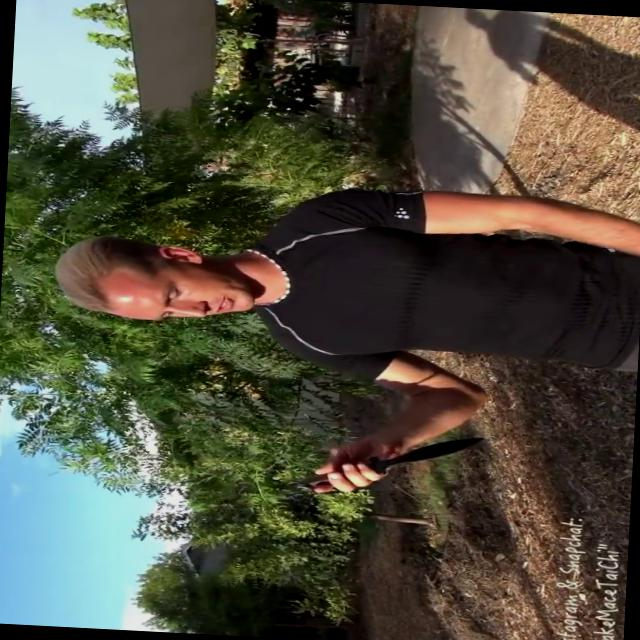knife: (274, 419, 500, 512)
